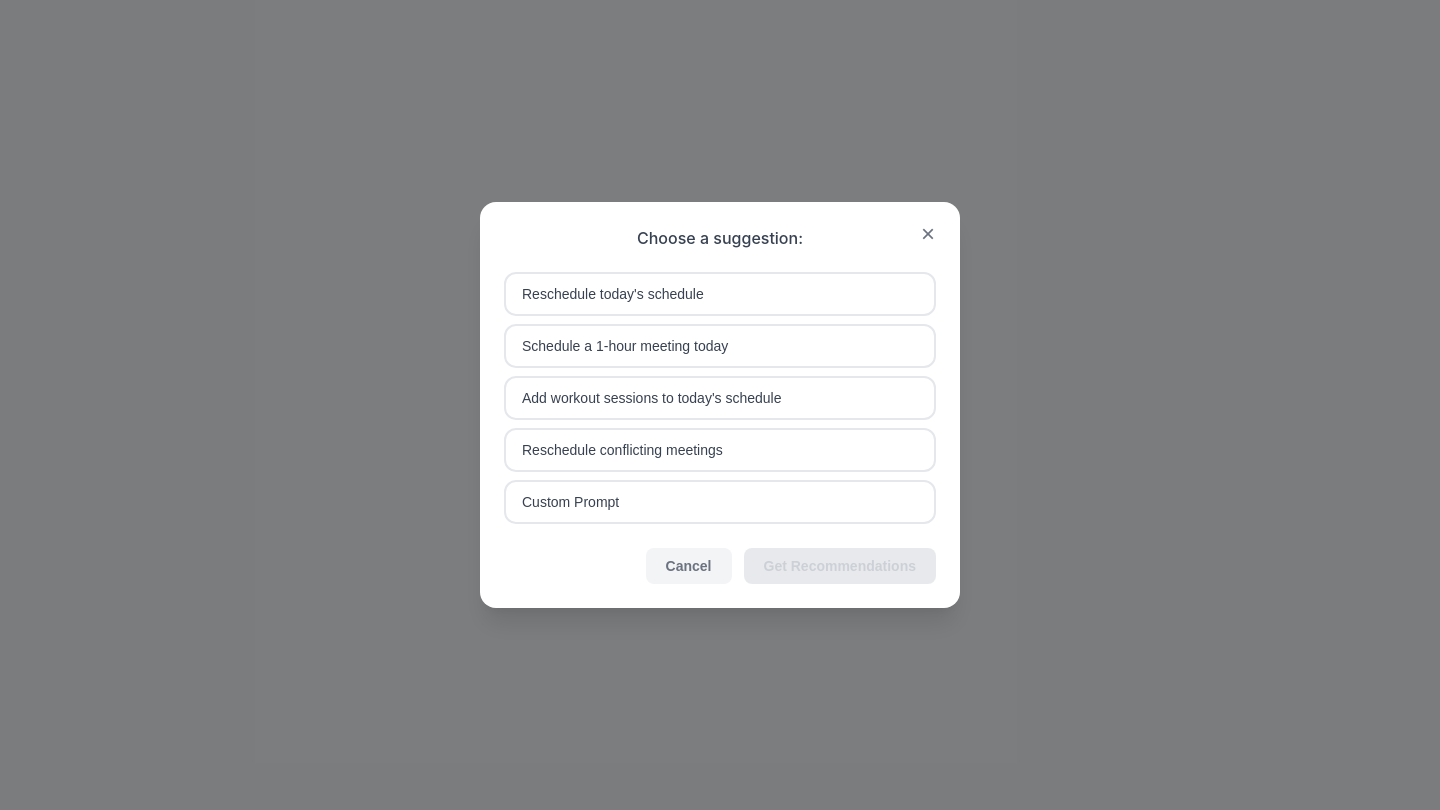
Test: ScheduleRecommendationsModal › Time Preferences › handles category checkbox selection
This screenshot has width=1440, height=810.
Click the button "Reschedule today's schedule": click(613, 294) 504,272 -> 936,316
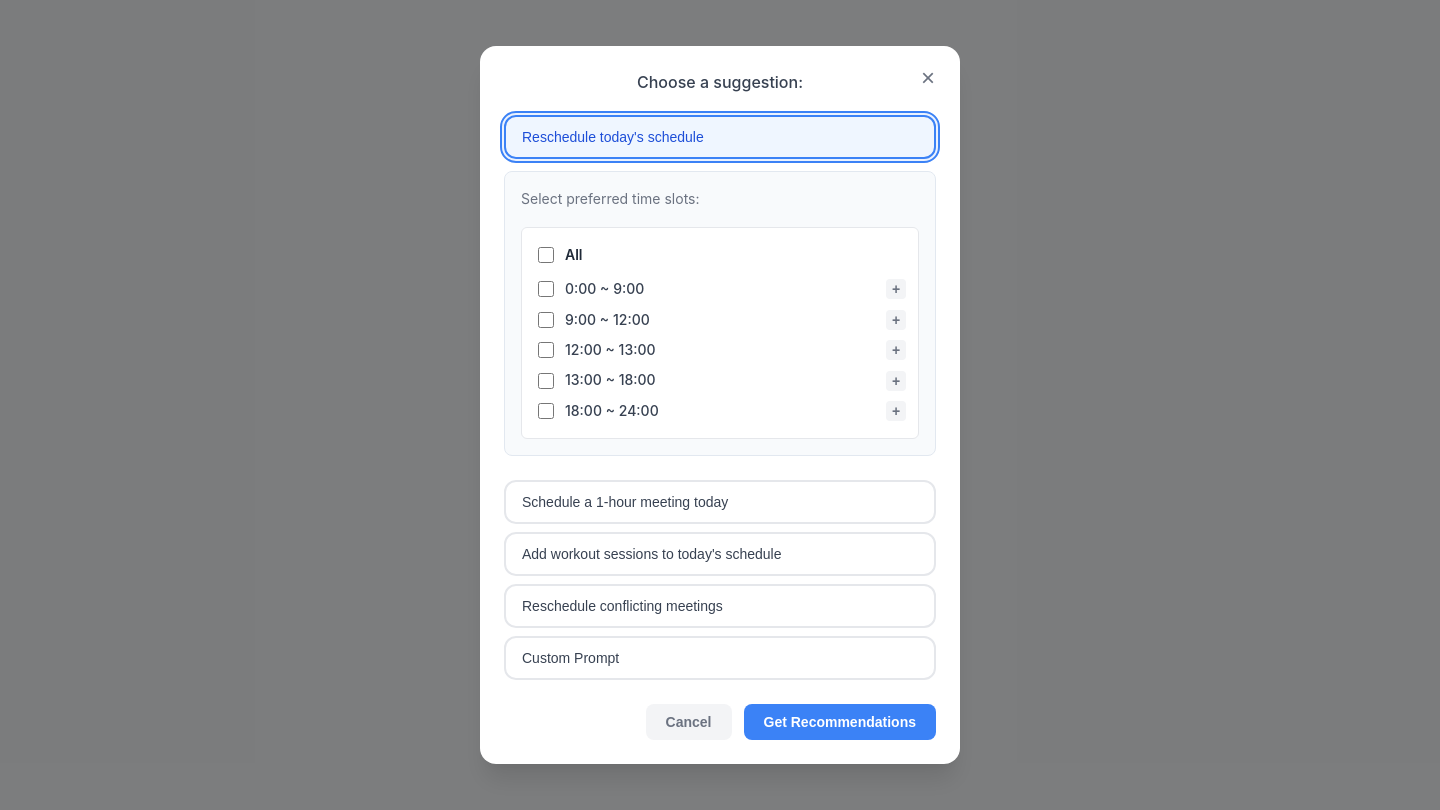
Click the checkbox labelled "9:00 ~ 12:00": click(546, 320) 538,312 -> 554,328
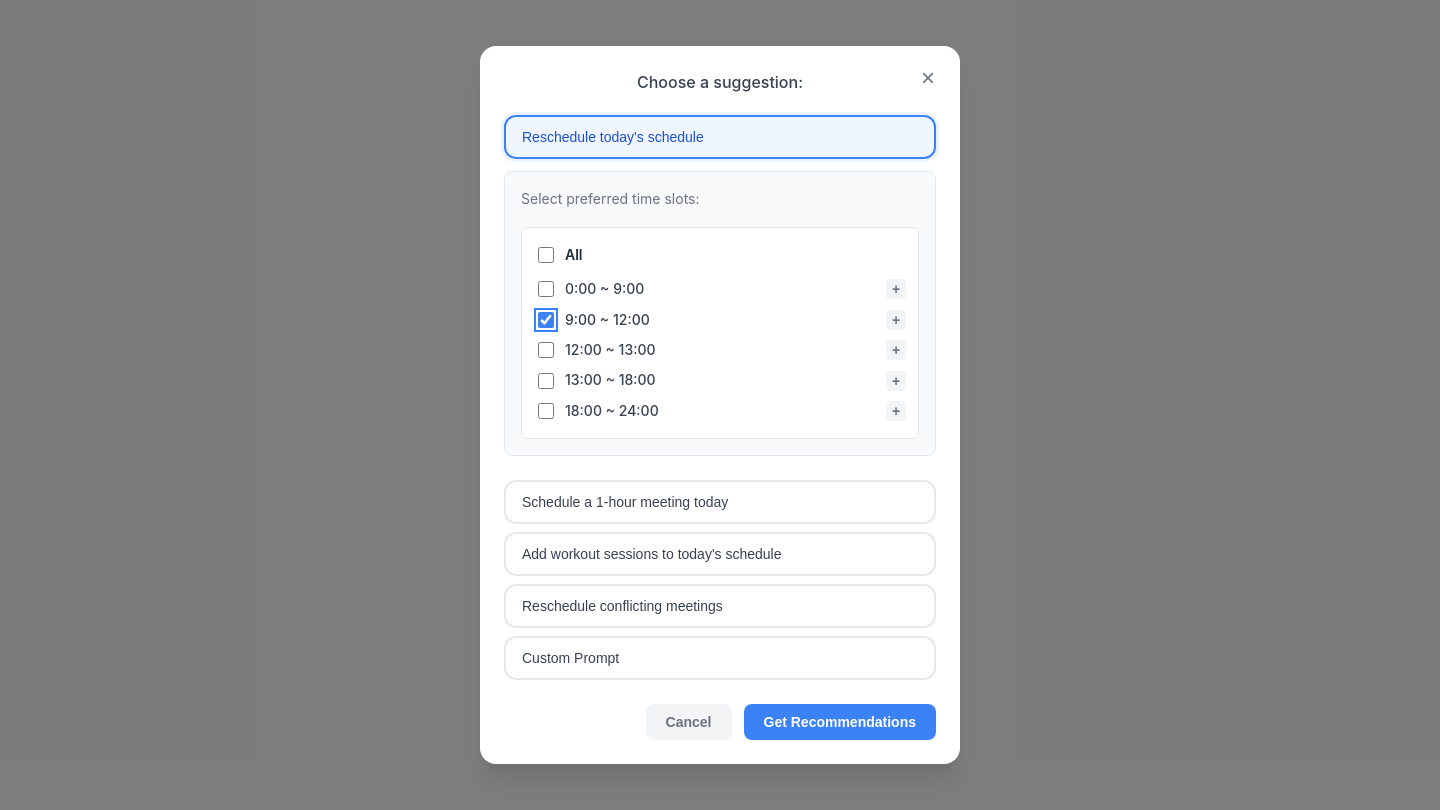
Result: the checkbox labelled "9:00 ~ 12:00" is checked at 538,312 -> 554,328
Click the button with class "toggle-button" in the row of "9:00 ~ 12:00": click(896, 320) 886,310 -> 906,330
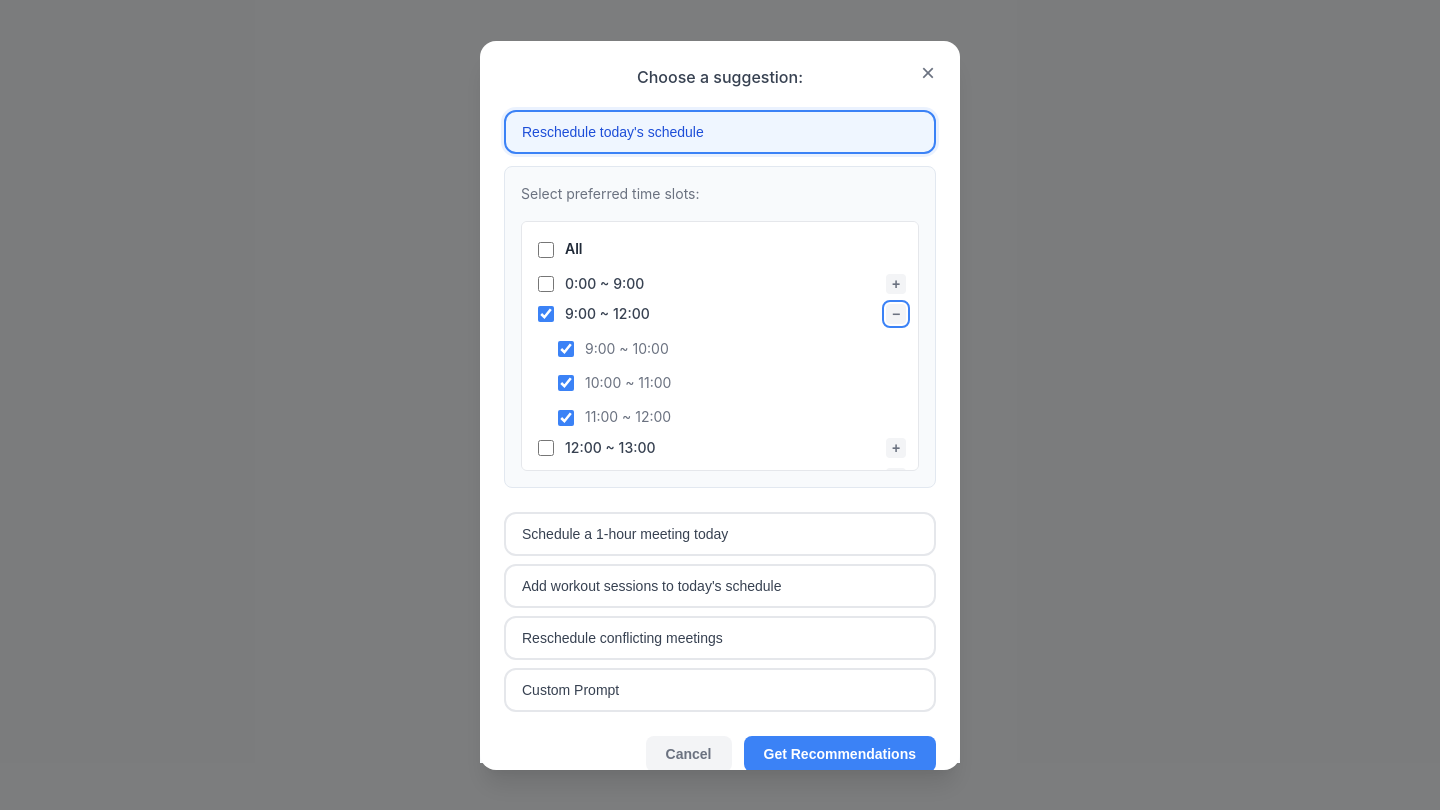
Result: the checkbox labelled "9:00 ~ 10:00" is checked at 558,341 -> 574,357
Result: the checkbox labelled "10:00 ~ 11:00" is checked at 558,375 -> 574,391
Result: the checkbox labelled "11:00 ~ 12:00" is checked at 558,410 -> 574,426
